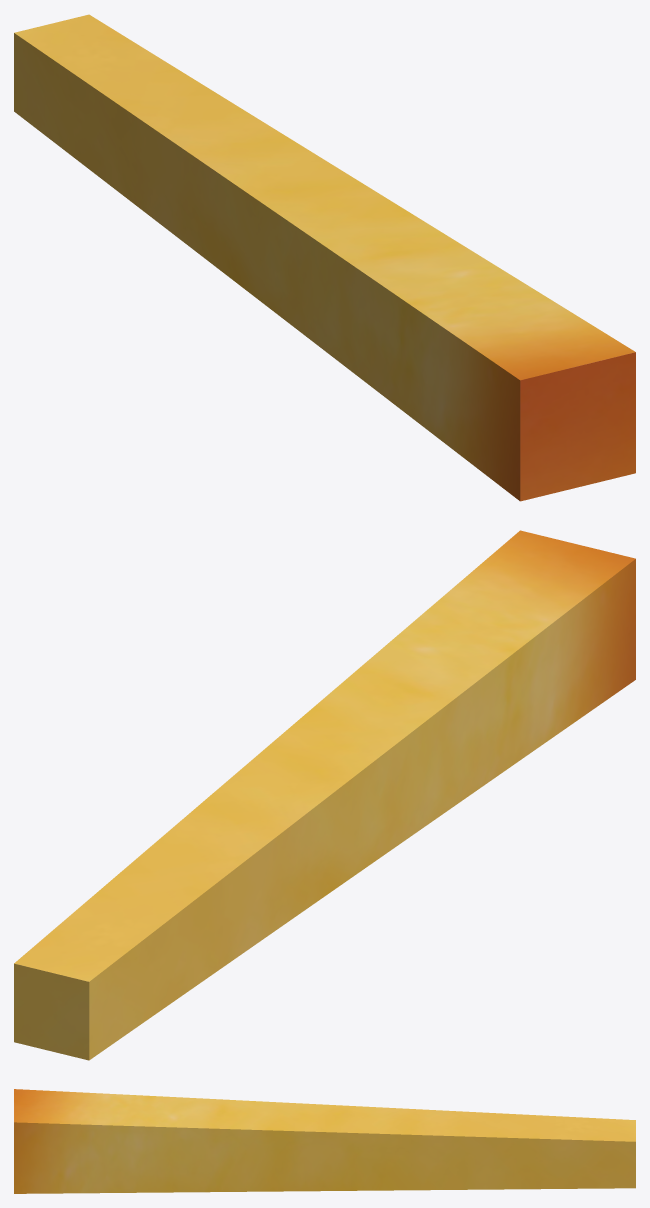
The model's file is CheeseFlake1.fbx.
The picture shows the model from 3 angles, top to bottom: view 1: azimuth 30°, elevation 25°; view 2: azimuth 150°, elevation 25°; view 3: azimuth 270°, elevation 25°; orthographic projection. The views are drawn at different scales.
Visible parts, largest first — view 1: CheeseFlake1; view 2: CheeseFlake1; view 3: CheeseFlake1.
Part boxes in pixels (x1,y1,x2,y2): CheeseFlake1: (14, 14, 635, 501); CheeseFlake1: (14, 530, 635, 1060); CheeseFlake1: (14, 1089, 635, 1193).
Bounding box in the file's own units: 1.27 × 1.27 × 10.
